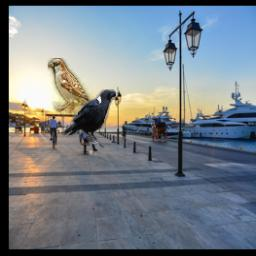Crow: (63, 90, 117, 148)
Sparrow: (49, 58, 100, 119)
